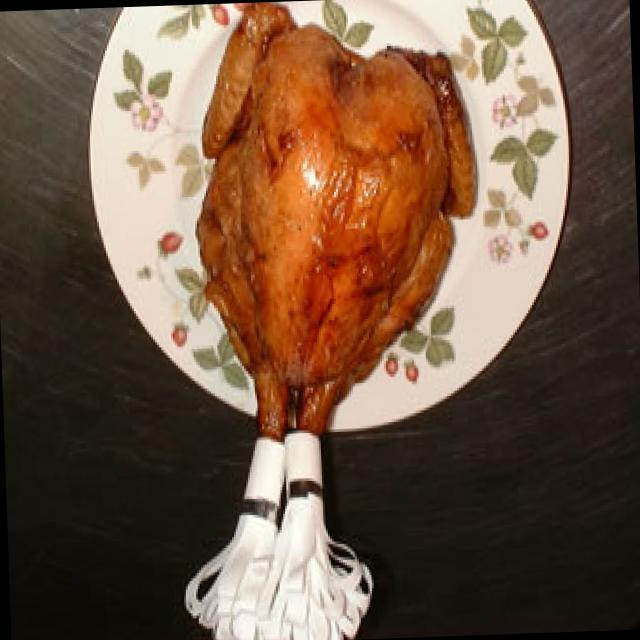Chicken: (195, 8, 474, 460)
